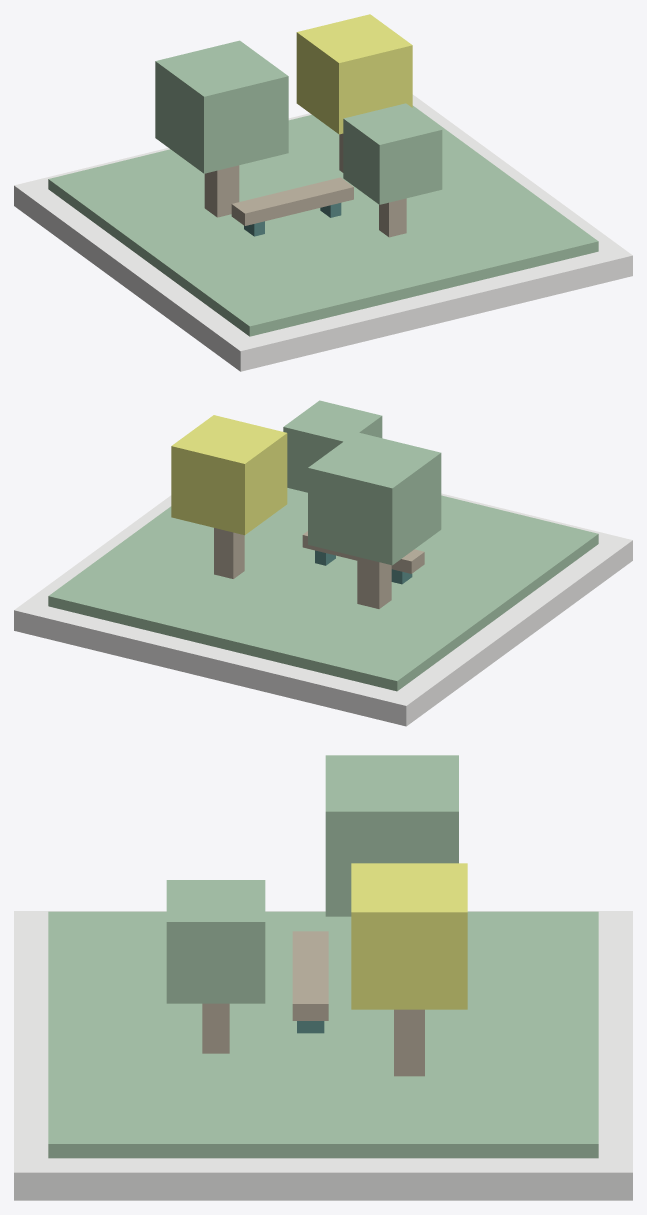
File: park.gltf
3 renders of one model, top to bottom at view 1: azimuth 30°, elevation 25°; view 2: azimuth 150°, elevation 25°; view 3: azimuth 270°, elevation 25°, orthographic. The views are drawn at different scales.
Visible parts, largest first — view 1: park_1, park_0, park_3, park_5, park_7, park_8, park_2, park_6; view 2: park_1, park_0, park_3, park_5, park_7, park_2, park_4, park_8; view 3: park_1, park_0, park_5, park_3, park_7, park_8, park_4, park_6.
Boxes of the visible parts, box(x1,y1,x2,y2) form: park_1: box(48, 105, 598, 336); park_0: box(14, 94, 632, 371); park_3: box(155, 40, 288, 173); park_5: box(296, 14, 412, 134); park_7: box(343, 103, 442, 204); park_8: box(231, 177, 353, 225); park_2: box(204, 165, 239, 217); park_6: box(379, 198, 406, 237); park_1: box(48, 488, 598, 691); park_0: box(14, 493, 632, 726); park_3: box(308, 432, 441, 565); park_5: box(171, 415, 287, 535); park_7: box(283, 400, 382, 492); park_2: box(357, 557, 391, 608); park_4: box(214, 528, 244, 578); park_8: box(302, 531, 424, 573); park_1: box(48, 911, 598, 1158); park_0: box(14, 911, 632, 1200); park_5: box(351, 863, 467, 1009); park_3: box(325, 755, 458, 916); park_7: box(166, 880, 265, 1003); park_8: box(292, 931, 328, 1020); park_4: box(394, 1009, 424, 1076); park_6: box(202, 1003, 229, 1053).
Size of the model in its own units: 7.2 by 3.03 by 7.2.
